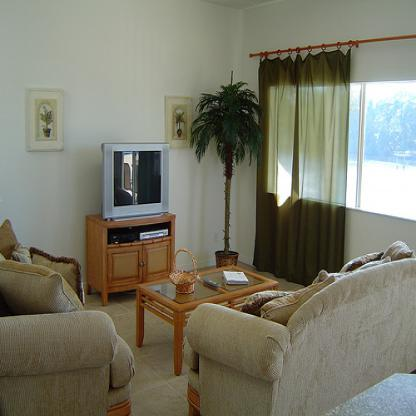pottedplant: (186, 66, 267, 270)
sofa: (175, 234, 415, 415), (0, 211, 138, 416)
tvmonitor: (101, 141, 170, 220)
